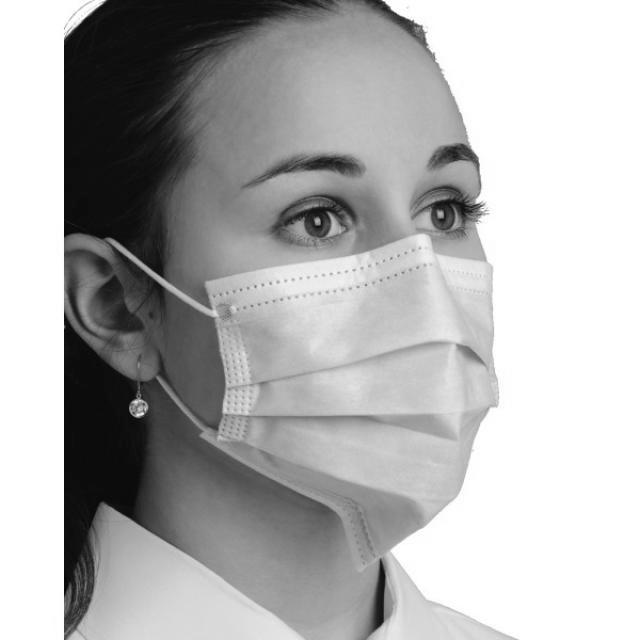fake: (94, 235, 502, 574)
real: (166, 10, 491, 508)
